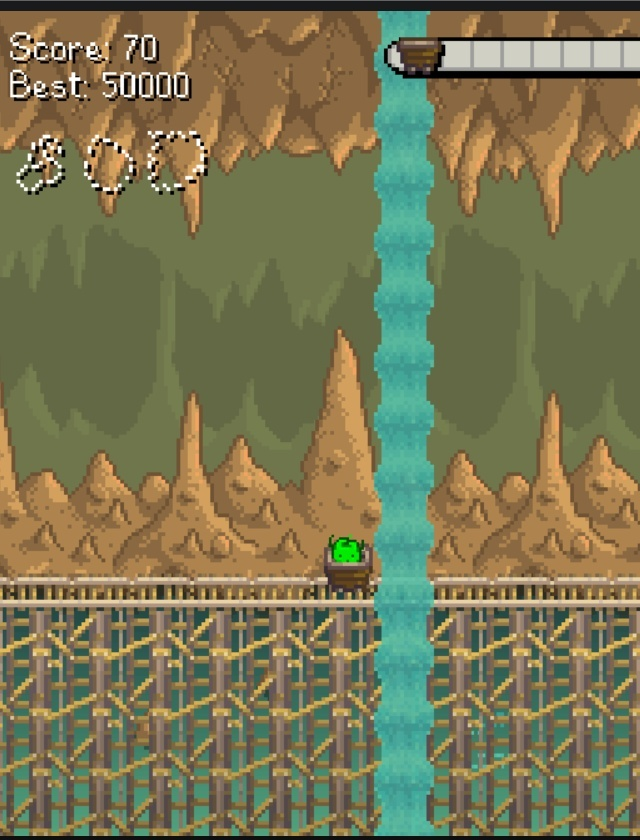minecart: (324, 536, 371, 590)
tracks: (0, 565, 279, 615), (381, 565, 640, 615)
